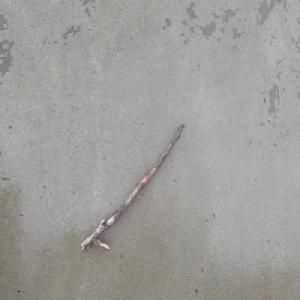Wood: (79, 120, 186, 253)
